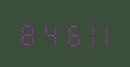eight: (18, 19, 35, 46)
four: (36, 19, 53, 46)
one: (72, 20, 89, 47), (90, 20, 107, 47)
six: (54, 19, 71, 47)
